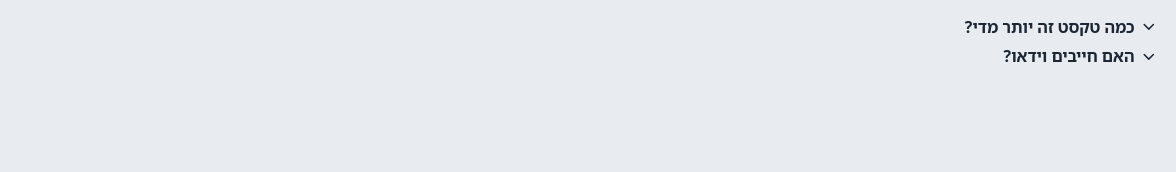
Test: AccordionRenderer › במצב multiple שני פריטים יכולים להיות פתוחים יחד
The width and height of the screenshot is (1176, 172).
Click the button "כמה טקסט זה יותר מדי?" at (1050, 27), box [12,12,1164,42]
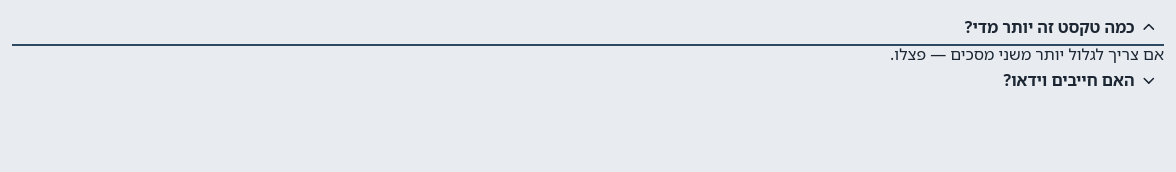
Click the button "האם חייבים וידאו?" at (1069, 80), box [12,66,1164,95]
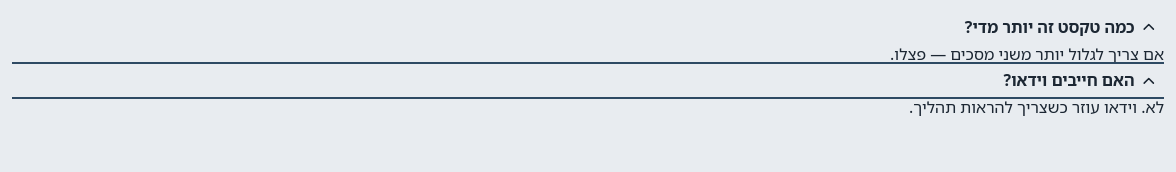
Check: the button "כמה טקסט זה יותר מדי?" is expanded, box [12,12,1164,42]
Check: the button "האם חייבים וידאו?" is expanded, box [12,66,1164,95]
